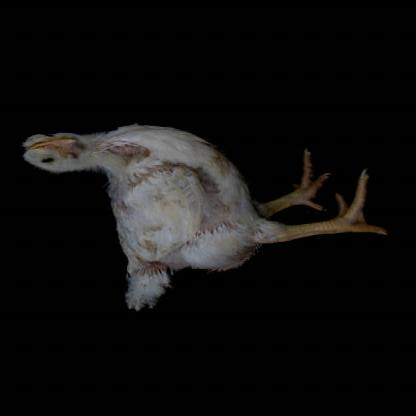Unhealthy: (16, 113, 393, 301)
